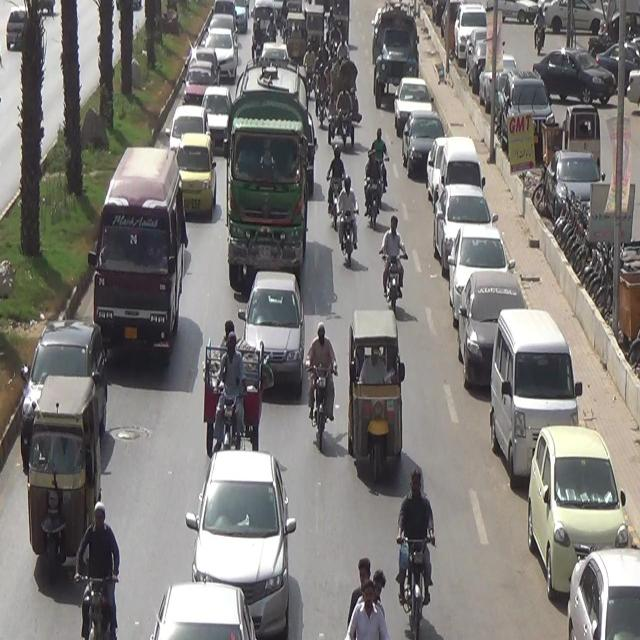car: (189, 439, 296, 635), (92, 167, 190, 371), (18, 300, 91, 467), (240, 266, 301, 396), (173, 130, 219, 231), (206, 21, 240, 92), (165, 108, 206, 166), (203, 87, 237, 156), (187, 49, 216, 111)
motorbike: (198, 319, 265, 461), (391, 477, 449, 640), (73, 492, 133, 640), (303, 323, 344, 449), (378, 220, 416, 324), (336, 182, 371, 283), (367, 122, 396, 208), (328, 149, 352, 231), (364, 126, 380, 224)
truck: (221, 66, 327, 293), (330, 61, 360, 147)
